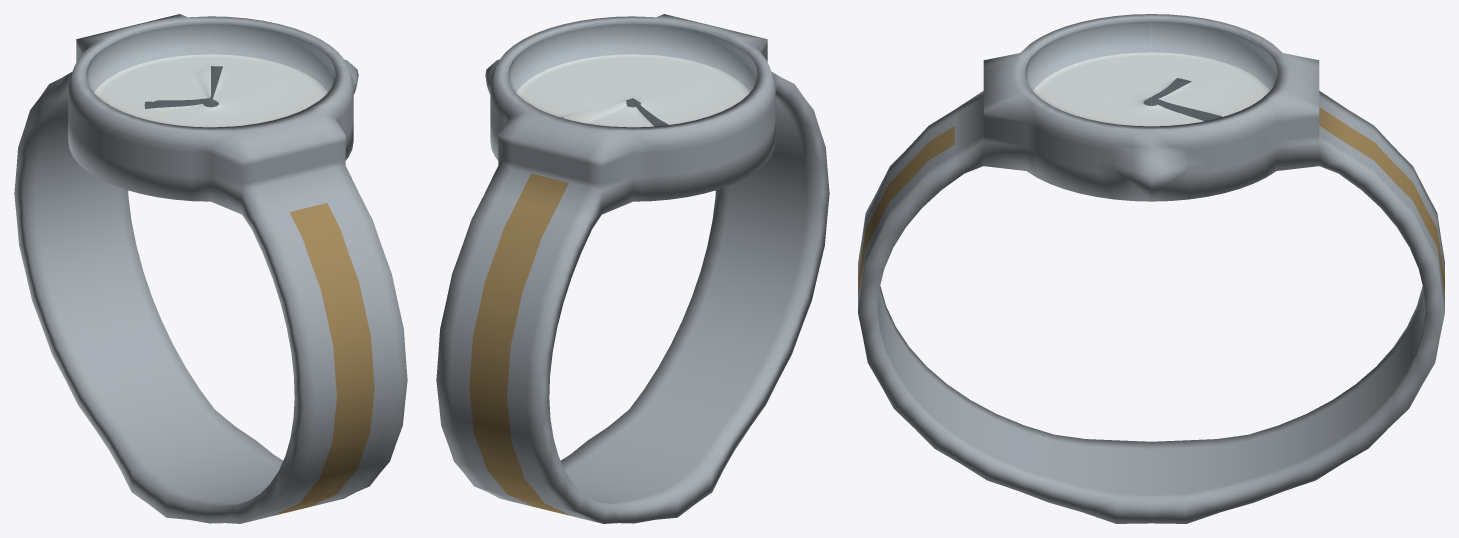
The model's file is A-NEW-20261027-WRISTWATCH-001_LOD2_R3.glb.
3 views of the same model, side by side, from view 1: azimuth 30°, elevation 25°; view 2: azimuth 150°, elevation 25°; view 3: azimuth 270°, elevation 25° (orthographic).
Visible parts, largest first — view 1: original wristwatch case dial crown and linked band, plain clear protective crystal; view 2: original wristwatch case dial crown and linked band, plain clear protective crystal; view 3: original wristwatch case dial crown and linked band, plain clear protective crystal.
Part boxes in pixels (left/top/right/bottom): original wristwatch case dial crown and linked band: left=14, top=14, right=407, bottom=523; plain clear protective crystal: left=86, top=21, right=335, bottom=126; original wristwatch case dial crown and linked band: left=436, top=14, right=829, bottom=523; plain clear protective crystal: left=508, top=21, right=757, bottom=126; original wristwatch case dial crown and linked band: left=858, top=14, right=1444, bottom=523; plain clear protective crystal: left=1025, top=18, right=1277, bottom=125.
Size of the model in its own units: 0.0472 by 0.0697 by 0.0874.
